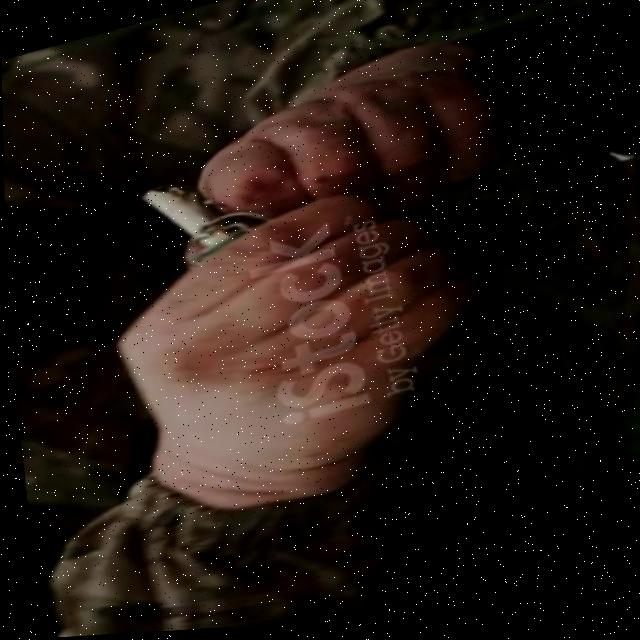grenade: (131, 150, 271, 279)
